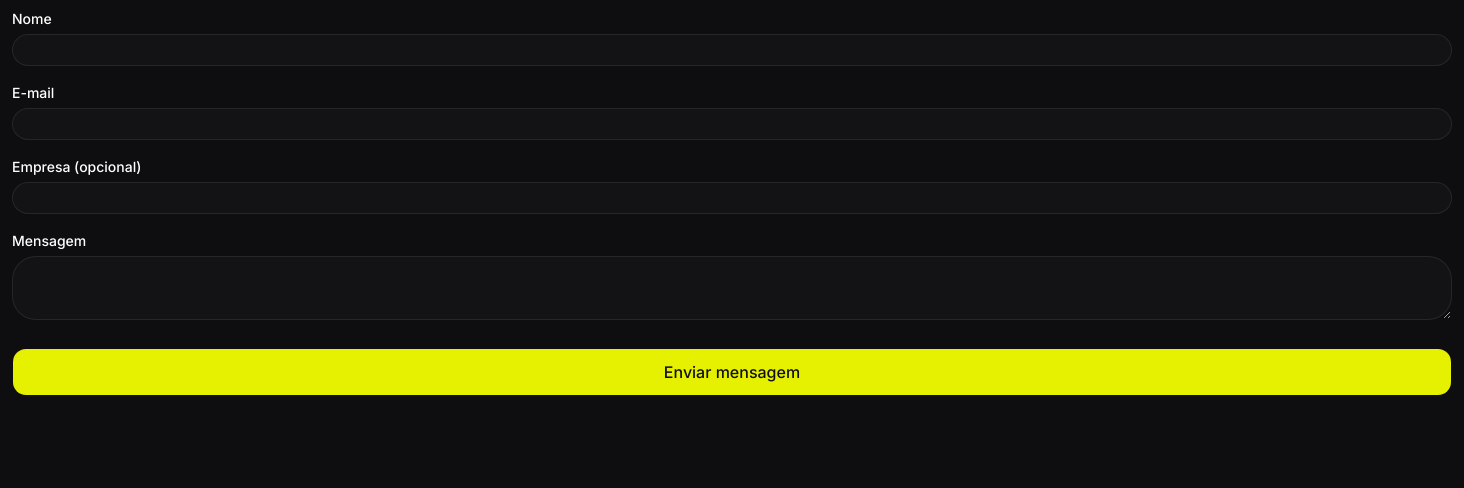
Test: ContactForm › clears the errors for a field as soon as it's edited
Click the button "Enviar mensagem": click(732, 372) x1=12 y1=348 x2=1452 y2=396
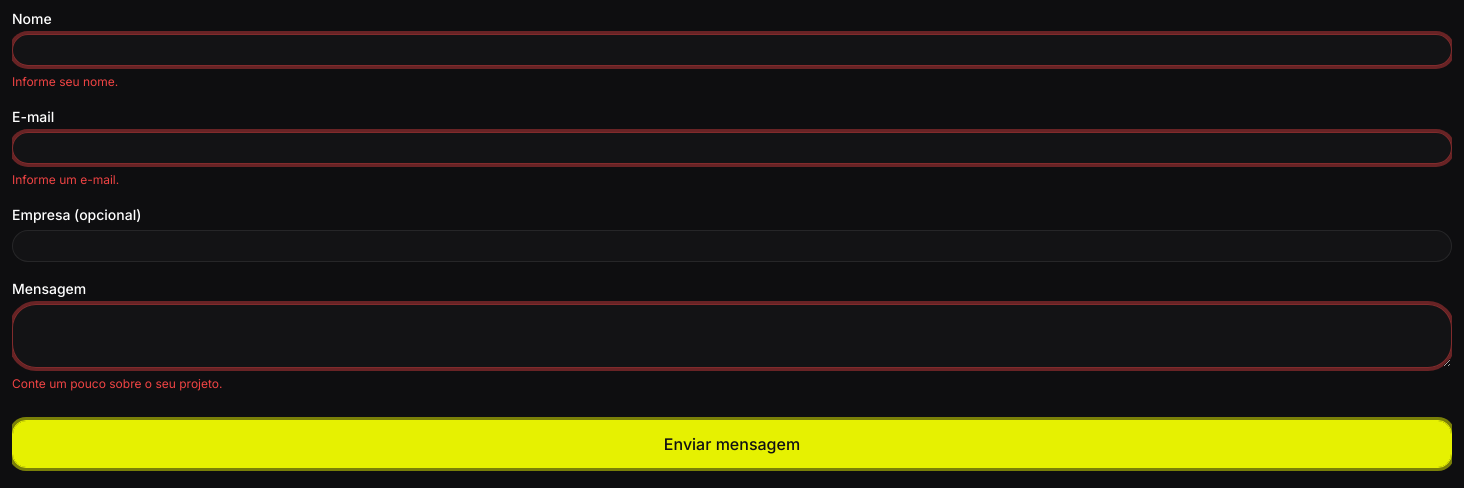
expect the text "Informe seu nome." is shown: met, box x1=12 y1=74 x2=118 y2=89
In the field labelled "Nome": (732, 50) x1=12 y1=34 x2=1452 y2=66, type "Ana"
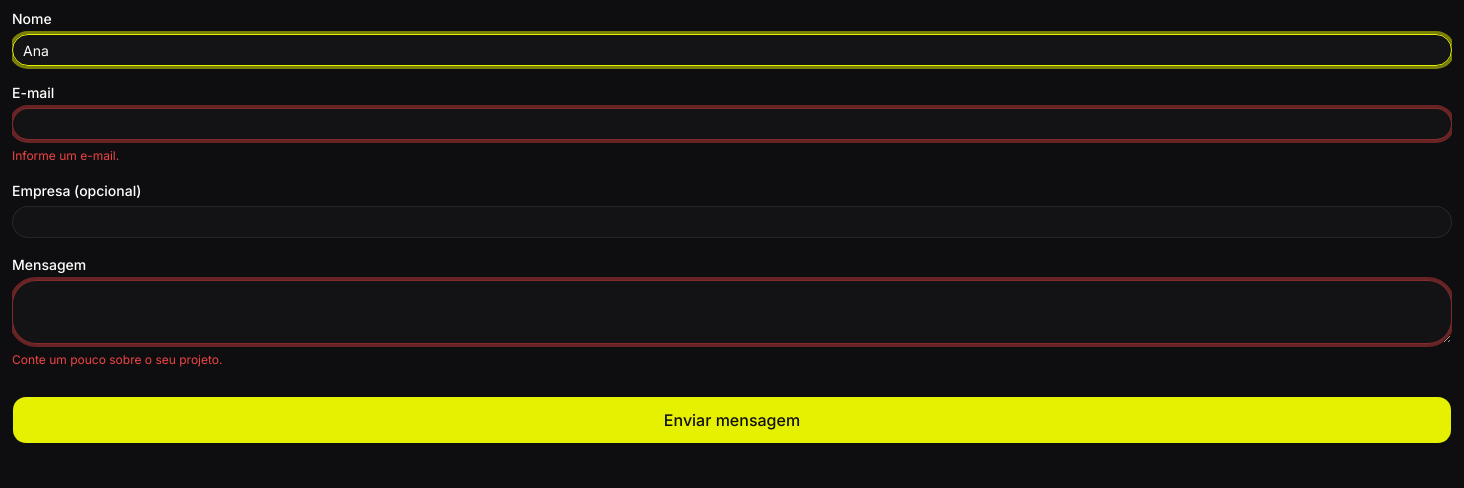
expect the text "Informe seu nome." is gone: met
